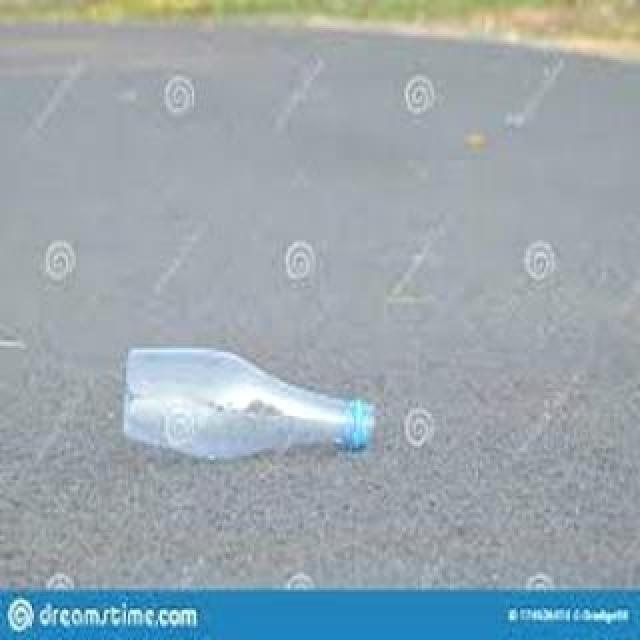Pet_Bottle: (118, 337, 384, 477)
